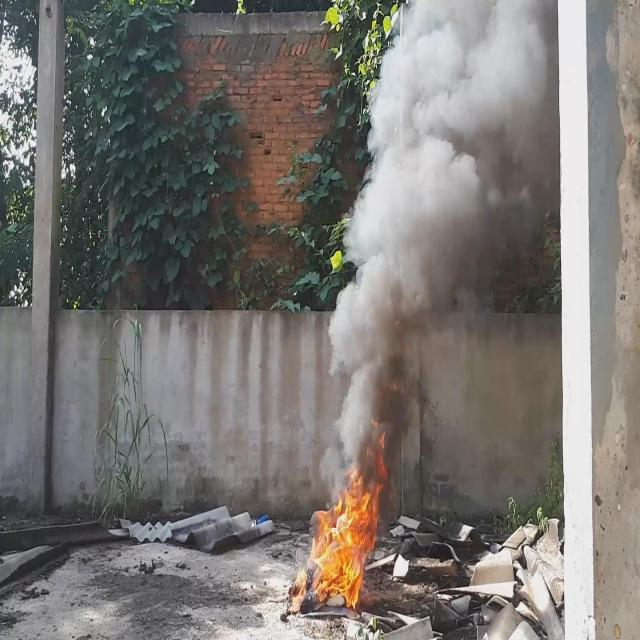Fire: (314, 434, 399, 609)
Smoke: (320, 0, 549, 494)
